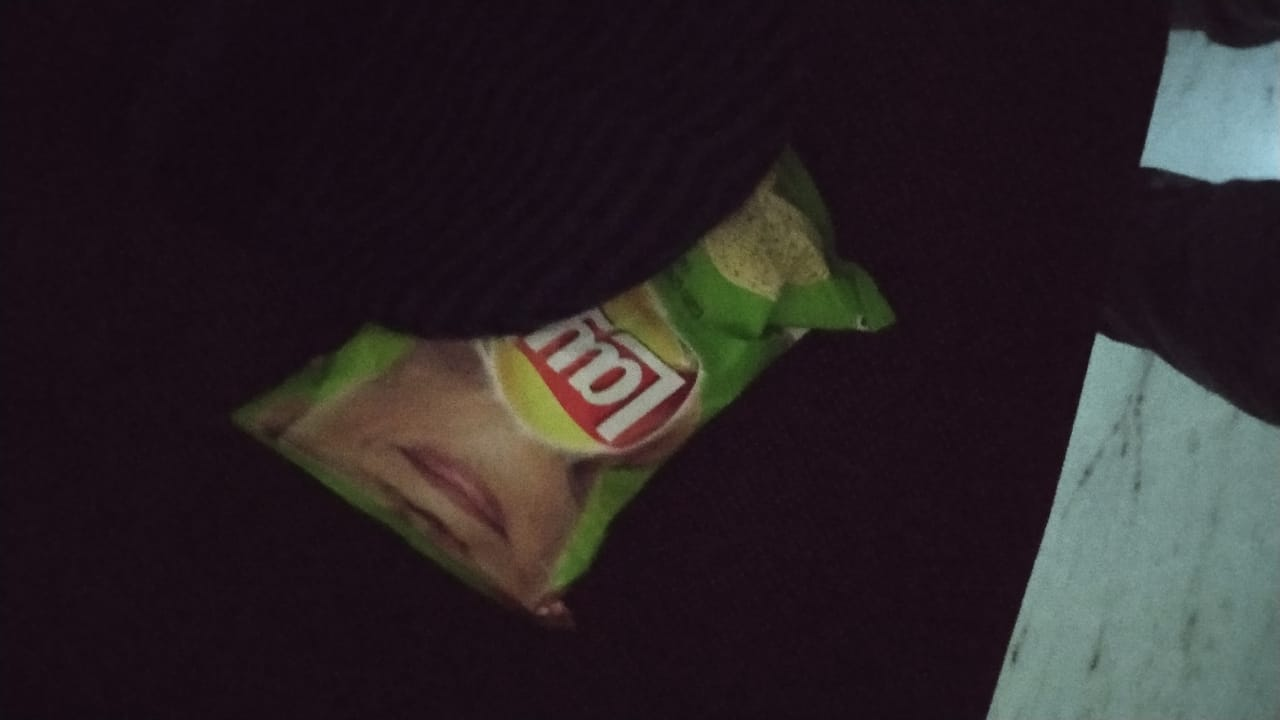lays chips: (236, 147, 894, 625)
